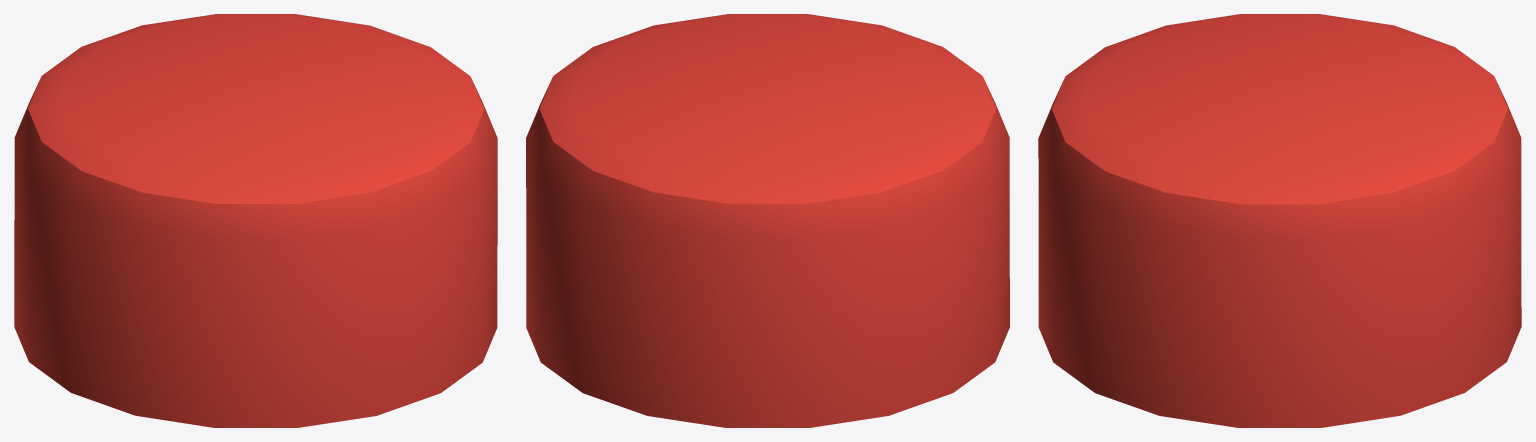
Rendered from rbt_interior_red_button.glb.
3 views of the same model, side by side, from view 1: azimuth 30°, elevation 25°; view 2: azimuth 150°, elevation 25°; view 3: azimuth 270°, elevation 25° (orthographic).
Visible parts, largest first — view 1: red_button; view 2: red_button; view 3: red_button.
Part boxes in pixels (bbox=[...]): red_button: bbox=[14, 14, 497, 427]; red_button: bbox=[526, 14, 1009, 427]; red_button: bbox=[1038, 14, 1521, 427].
Bounding box in the file's own units: 0.3979 × 0.2129 × 0.404.
